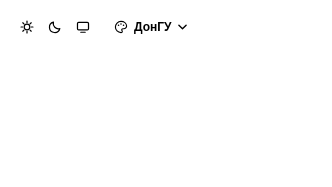
ThemeToggle + ThemeProvider › палитры скрыты в выпадающем меню, пока оно не открыто
Click the button with aria-label "Цветовая тема: ДонГУ": (149, 27) [104,12,194,42]
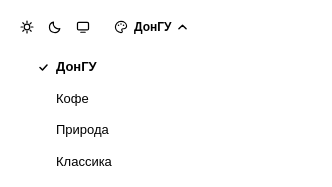
Now the options read "ДонГУ", "Кофе", "Природа", "Классика", in this order, box [38,58,97,76]; [56,90,89,108]; [56,121,109,139]; [56,153,112,171]
Now the button with aria-label "Цветовая тема: ДонГУ" is expanded, box [104,12,194,42]
